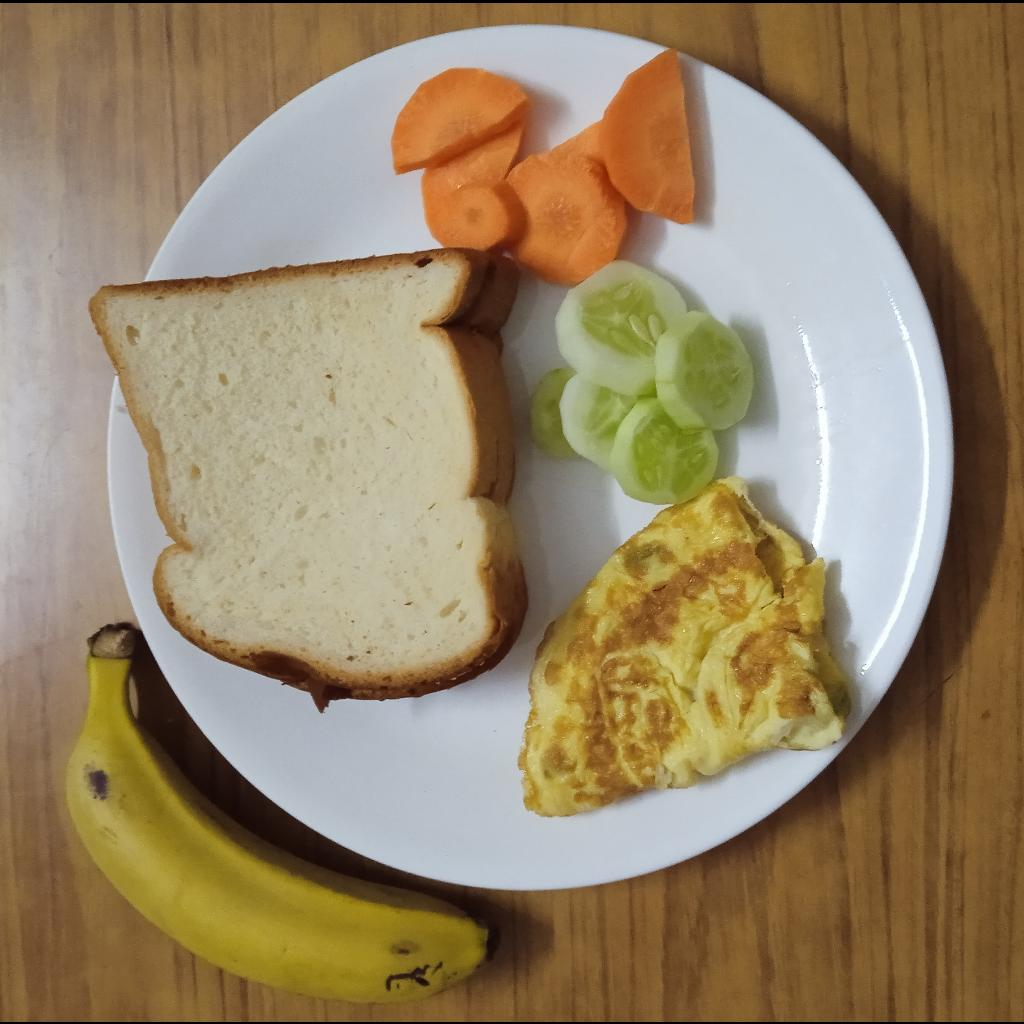banana: (63, 623, 497, 1003)
bread: (87, 246, 531, 713)
carrot: (388, 45, 694, 284)
cucumber: (531, 258, 754, 505)
egg-poached: (517, 472, 851, 816)
